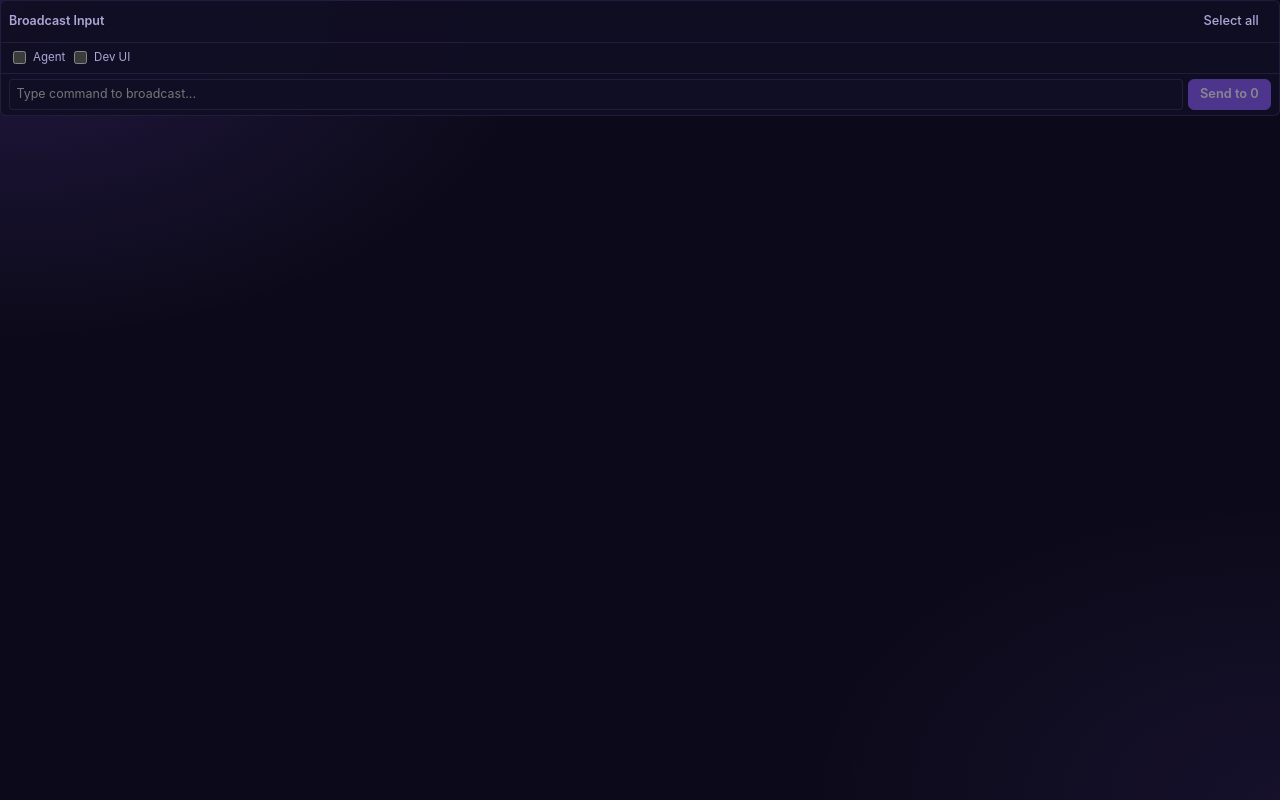
Test: Broadcast Input › select all selects all running panes
Click the button "Select all": (1231, 21) [1191, 6, 1271, 37]
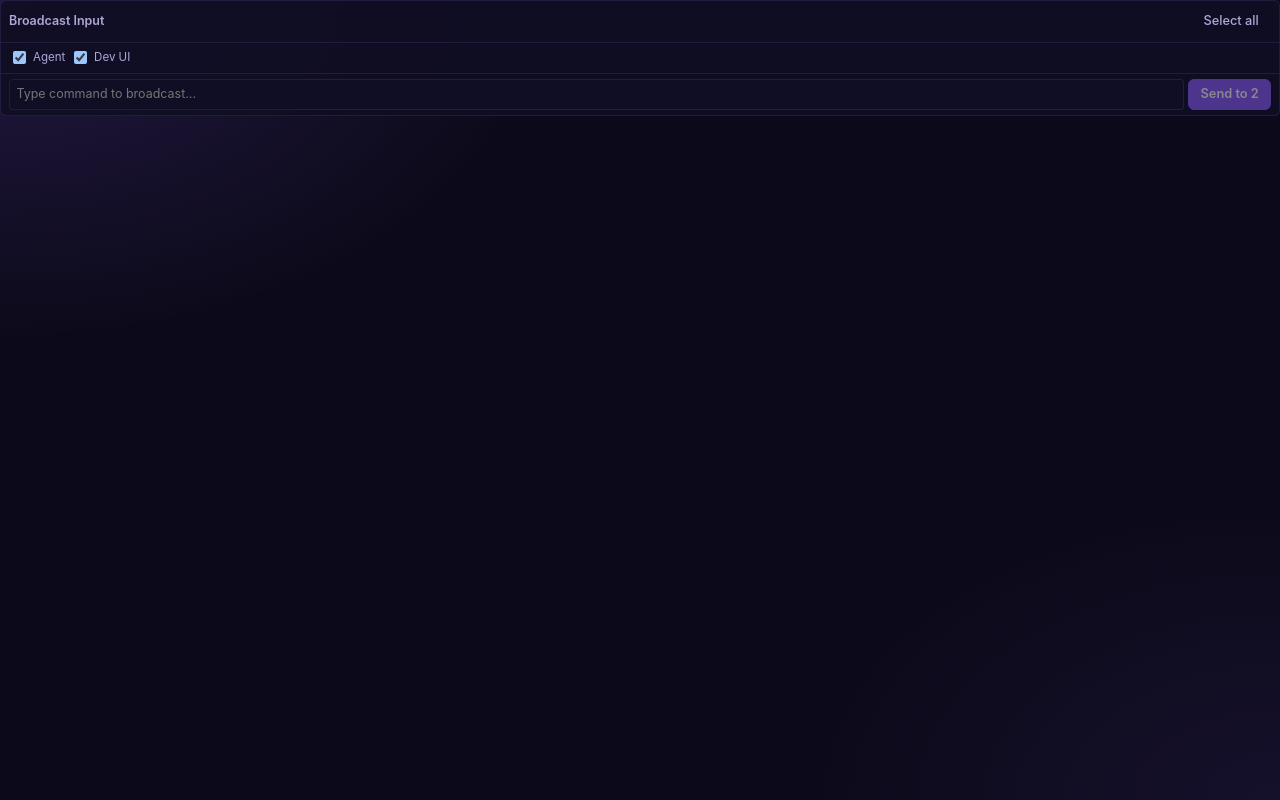
expect the checkbox labelled "Agent" is checked: met, box [13, 51, 26, 64]
expect the checkbox labelled "Dev UI" is checked: met, box [74, 51, 87, 64]
